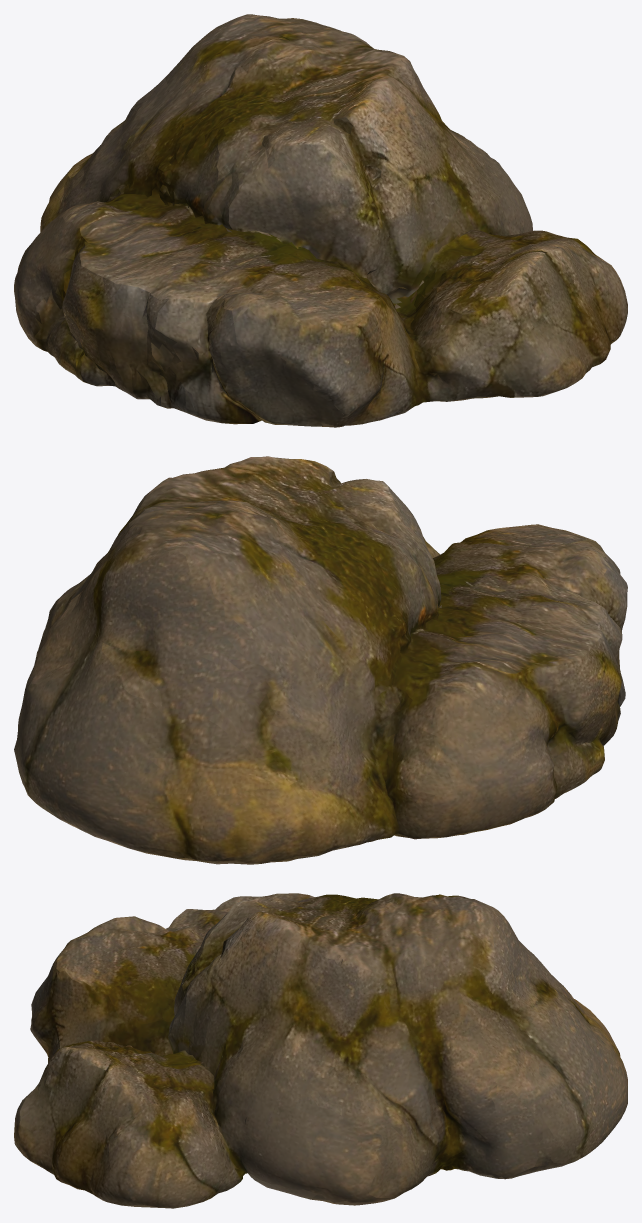
The model's file is mossy-rock.web.glb.
3 views of the same model, one above another, from view 1: azimuth 30°, elevation 25°; view 2: azimuth 150°, elevation 25°; view 3: azimuth 270°, elevation 25° (orthographic). The views are drawn at different scales.
Visible parts, largest first — view 1: painted; view 2: painted; view 3: painted.
Part boxes in pixels (box(x1,y1,x2,y2)): painted: box(14, 14, 627, 427); painted: box(14, 456, 627, 864); painted: box(14, 893, 627, 1208).
Size of the model in its own units: 1.72 by 0.7833 by 1.99.
Materials: 1 (1 with a texture image).
